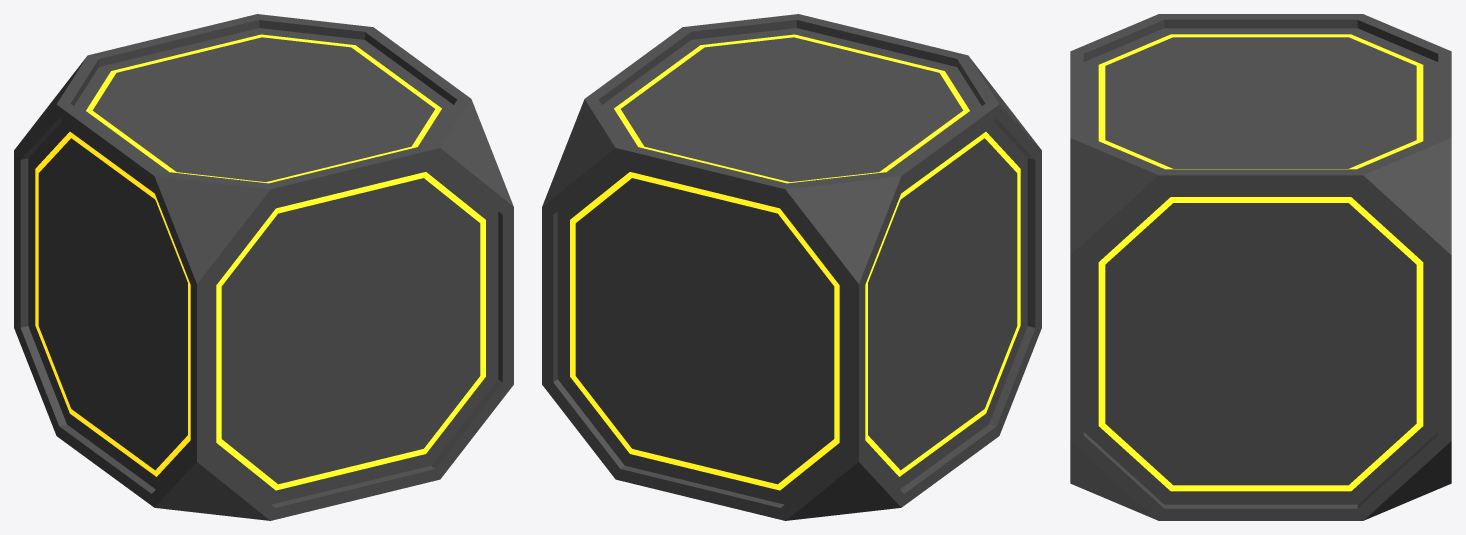
File: block.fbx
3 renders of one model, left to right at view 1: azimuth 30°, elevation 25°; view 2: azimuth 150°, elevation 25°; view 3: azimuth 270°, elevation 25°, orthographic. The views are drawn at different scales.
Parts seen in each view (by area): view 1: Cube; view 2: Cube; view 3: Cube.
Part boxes in pixels (<box>): Cube: <box>14,14,513,520</box>; Cube: <box>542,14,1041,520</box>; Cube: <box>1070,14,1451,520</box>.
Bounding box in the file's own units: 86.66 × 86.66 × 86.66.
